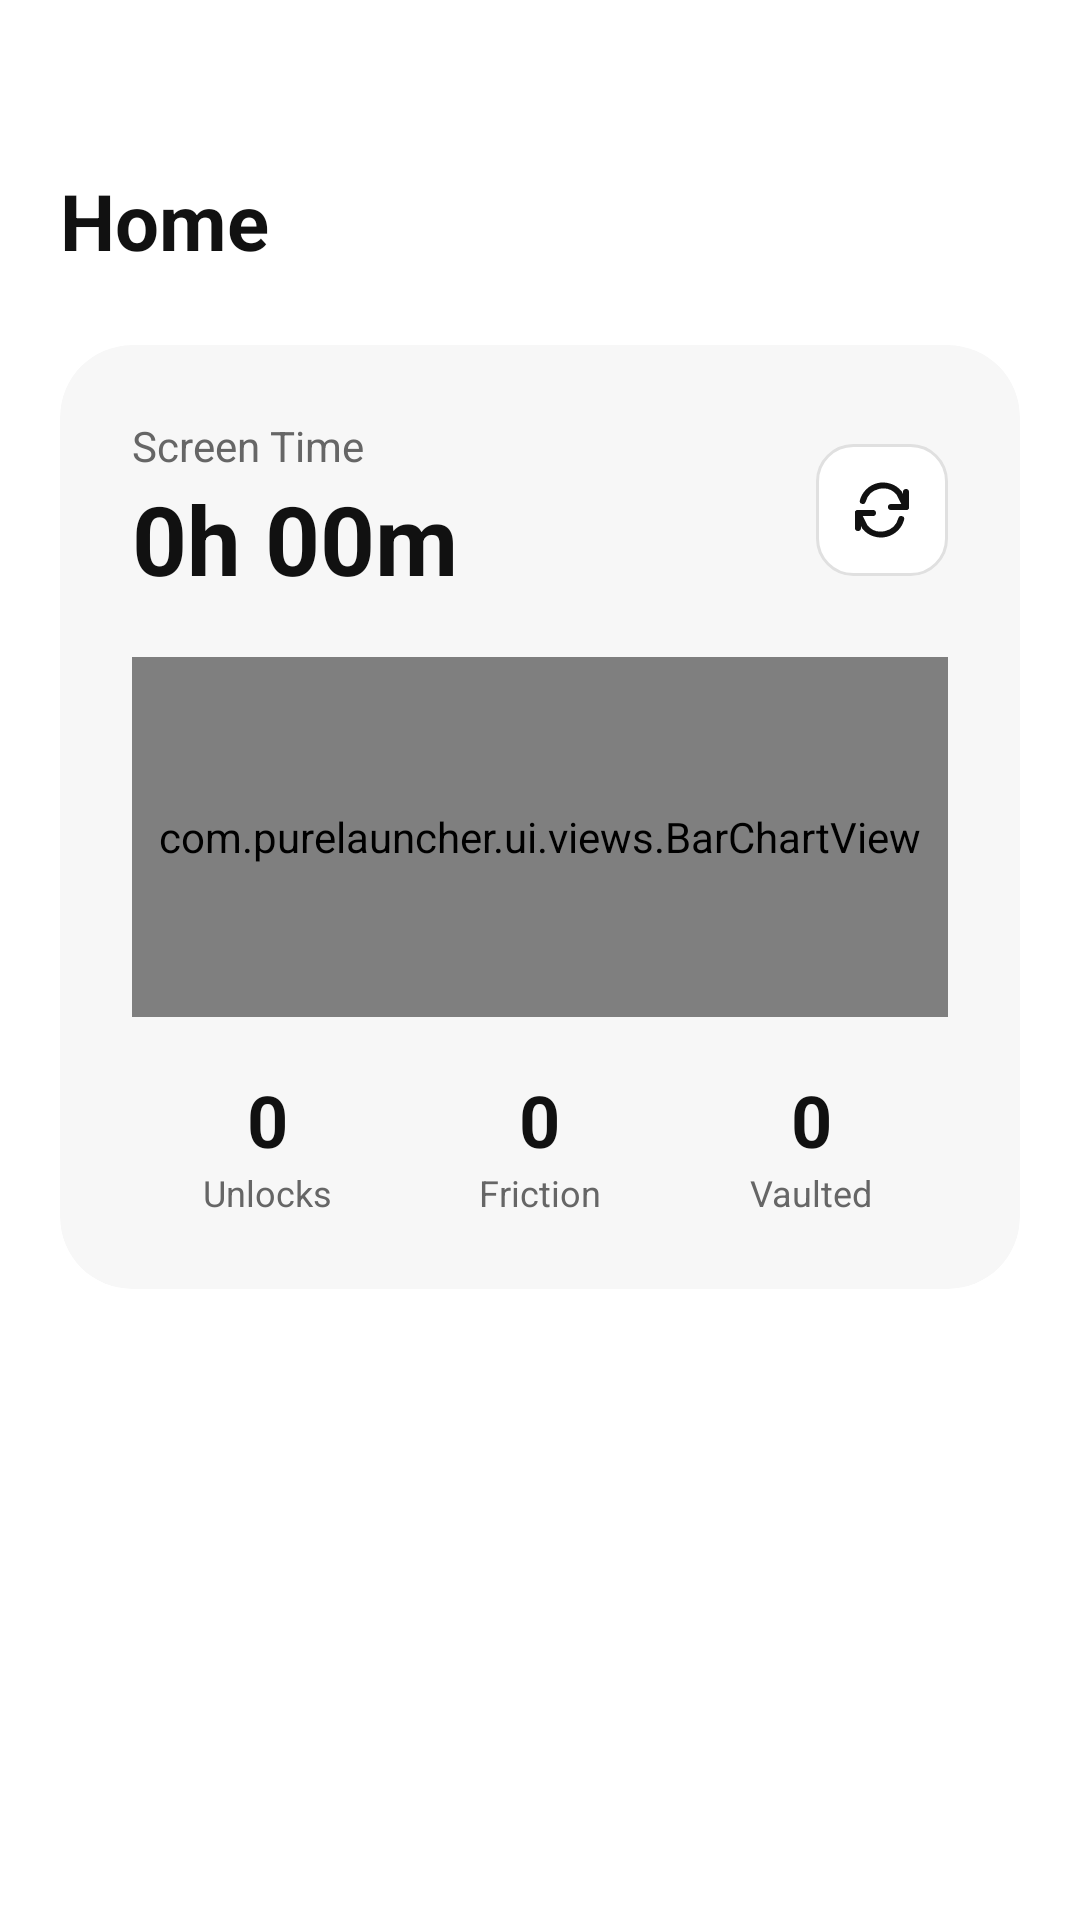

Icon click points for this 1080*1920 phone screenshot, format point (x, y):
Reload screen time: point (882, 510)
